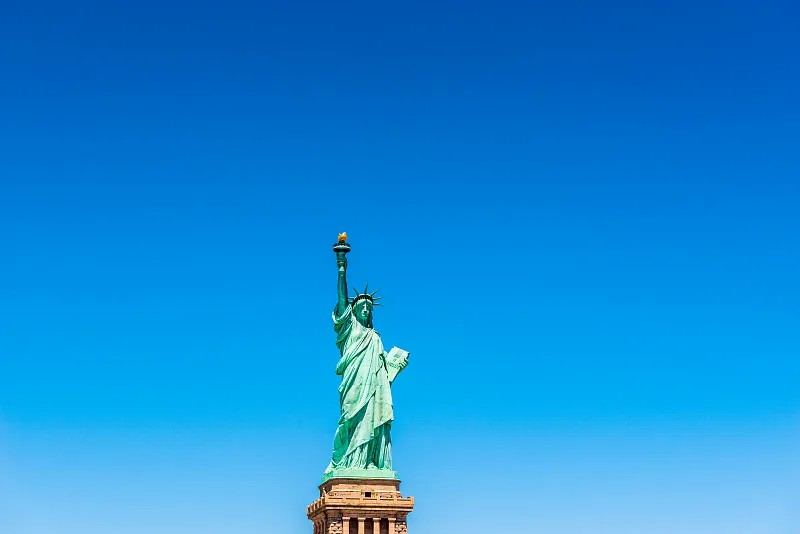SL: (306, 232, 415, 534)
